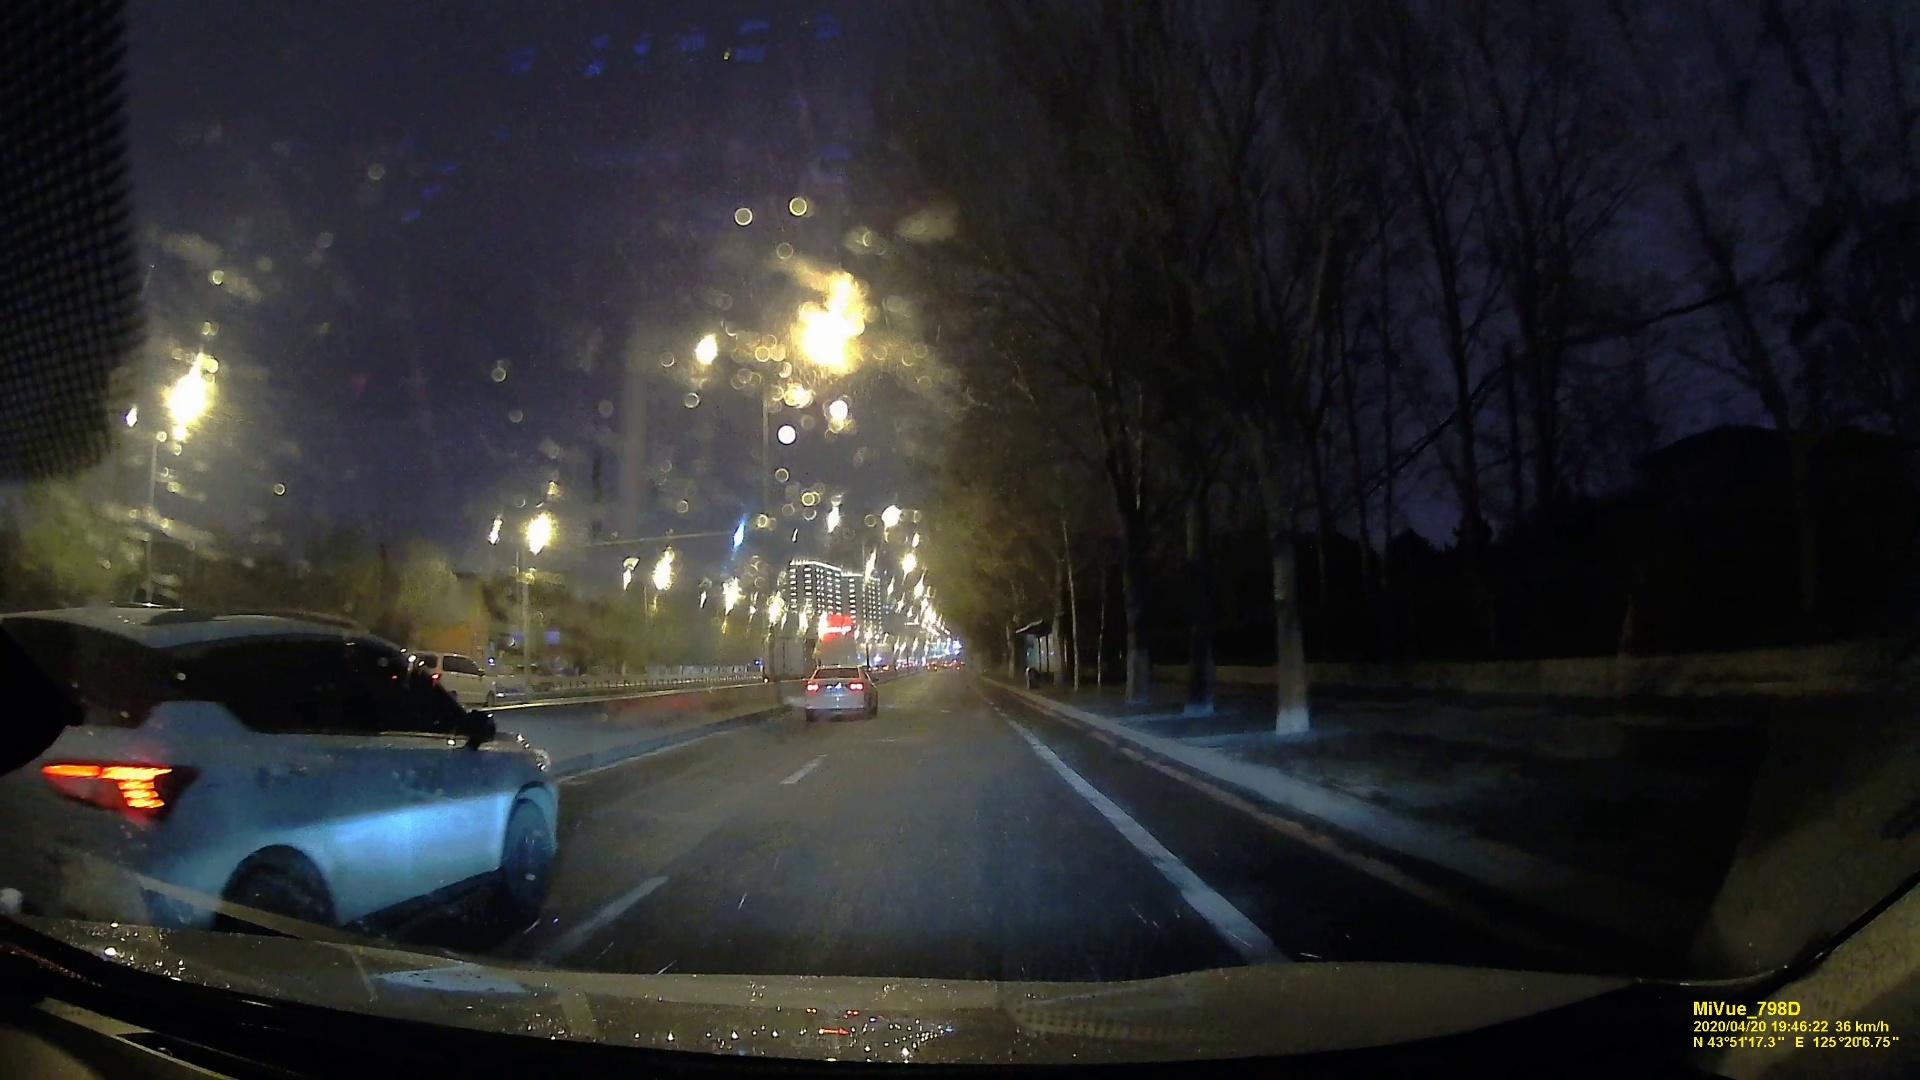vehicle: (3, 611, 553, 930), (802, 665, 876, 723)
